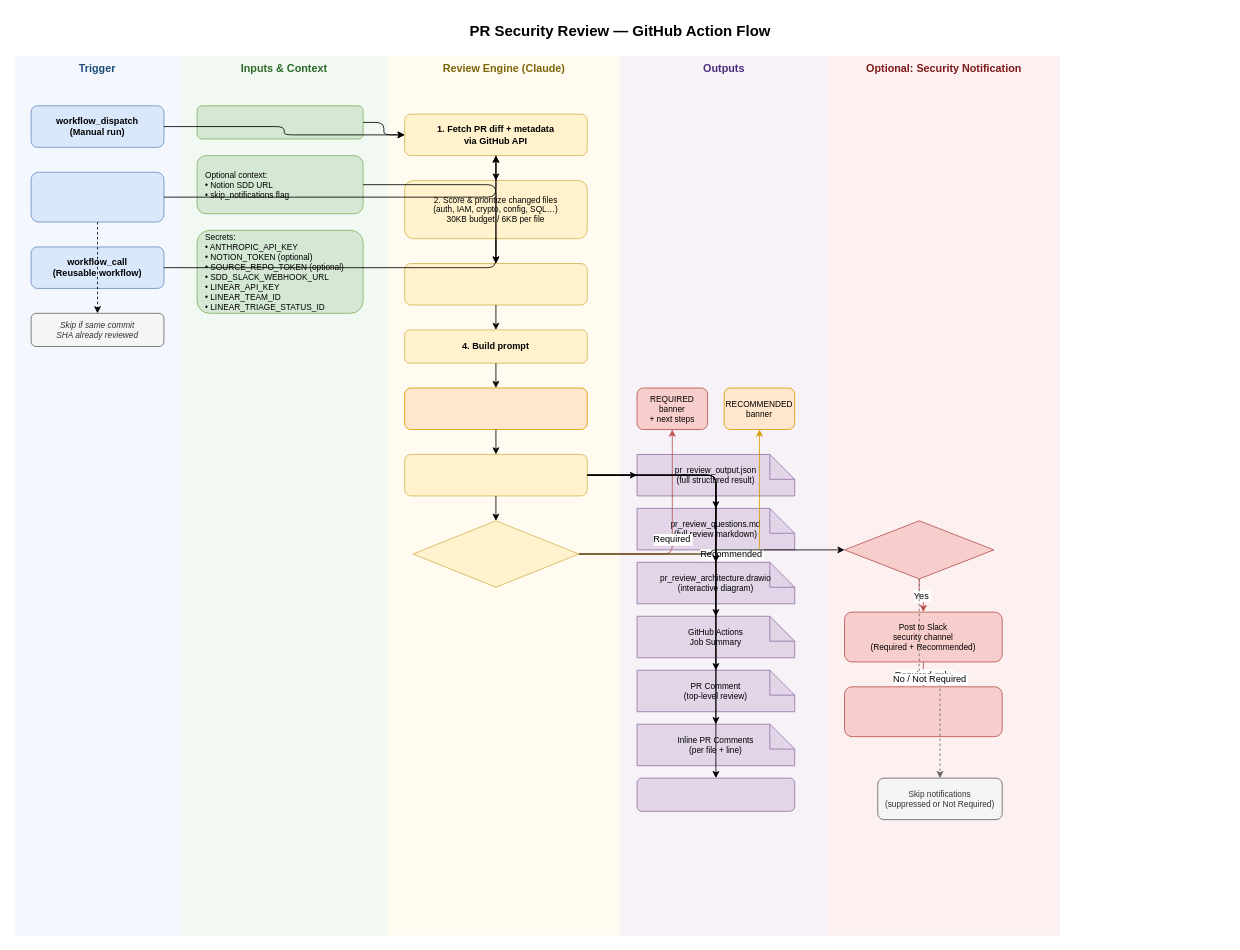
The diagram is 1240 pixels wide and 950 high, and some of its shapes have lost their labels. Each missing label, with the box of its shape:
3. Optionally fetch Notion SDD for design context: (404, 263, 587, 305)
5. Call Claude API (claude-sonnet / opus): (404, 387, 587, 430)
6. Parse structured JSON response Filter questions < 0.7 confidence: (404, 454, 587, 496)
Create Linear triage ticket (Required only): (844, 686, 1002, 737)
GitHub PR URL (required): (196, 105, 363, 139)
pull_request (.github/pr-review-config.yml changed): (30, 171, 164, 222)
security_involvement .recommendation?: (412, 520, 579, 587)
skip_notifications = false?: (844, 520, 994, 579)
Upload artifacts (90-day retention): (636, 777, 795, 811)
